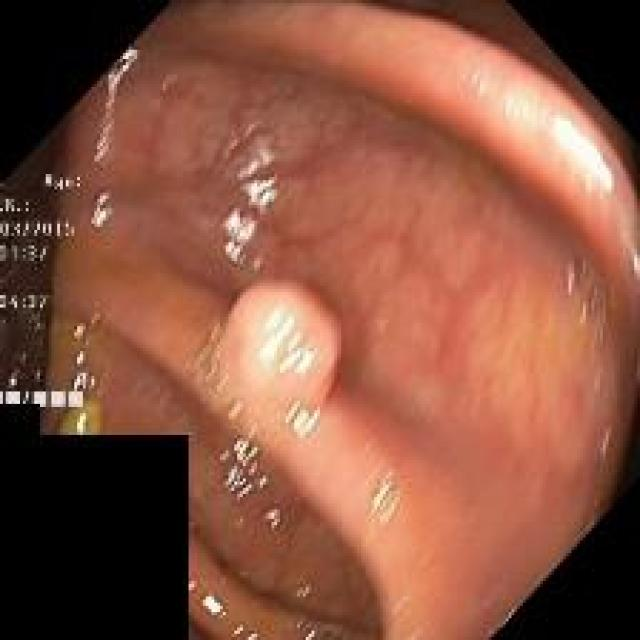Polyps: (191, 283, 341, 445)
